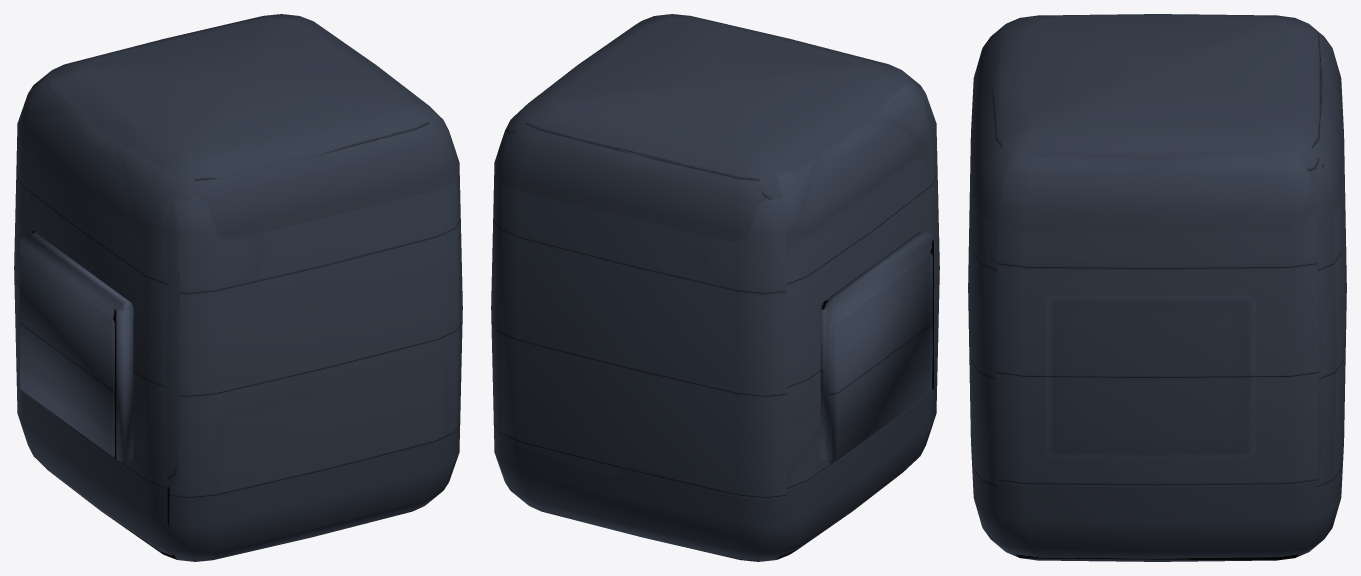
The model's file is Remache_MusloDer.fbx.
3 renders of one model, left to right at view 1: azimuth 30°, elevation 25°; view 2: azimuth 150°, elevation 25°; view 3: azimuth 270°, elevation 25°, orthographic. The views are drawn at different scales.
Visible parts, largest first — view 1: Remache_MusloDer; view 2: Remache_MusloDer; view 3: Remache_MusloDer.
Part boxes in pixels (x1,y1,x2,y2): Remache_MusloDer: (14,14,462,561); Remache_MusloDer: (491,14,939,561); Remache_MusloDer: (968,14,1346,561).
Size of the model in its own units: 1.87 by 2.25 by 1.77.
